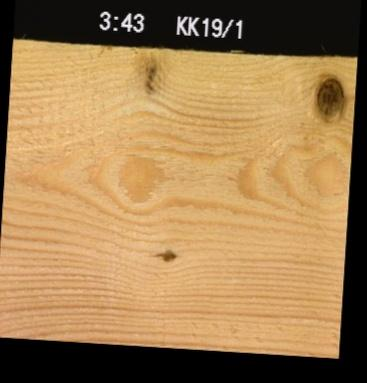dry_knot: (314, 74, 344, 117), (149, 246, 178, 261)
